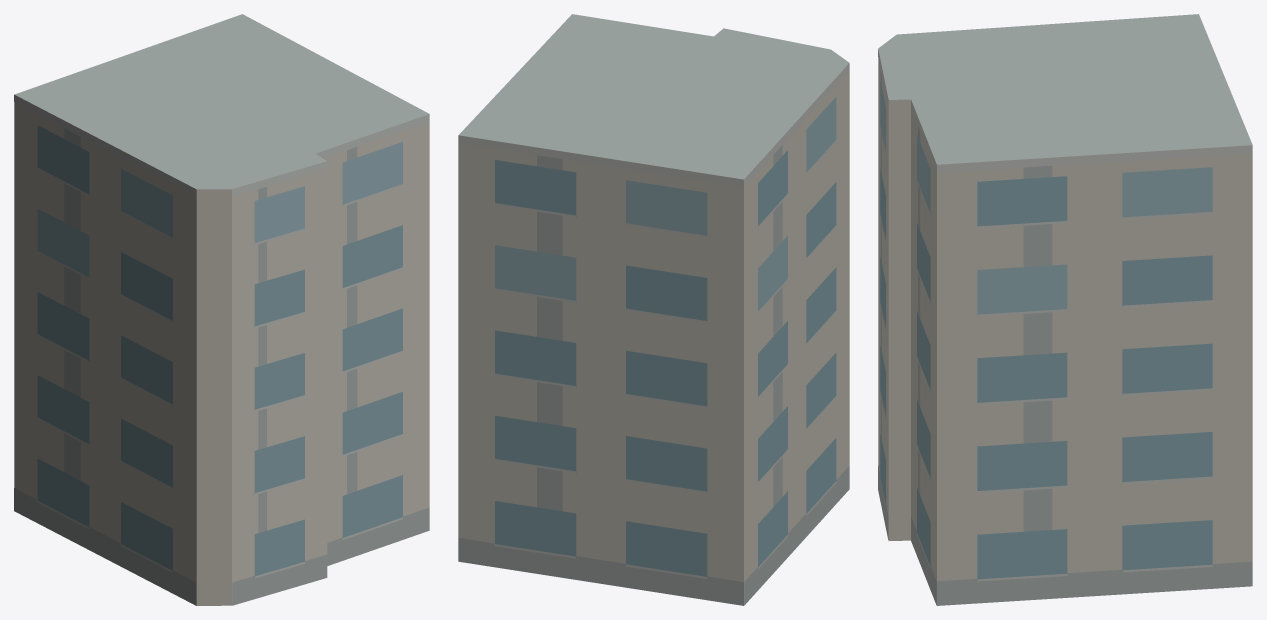
Rendered from survey-upis-32641598.glb.
3 renders of one model, left to right at view 1: azimuth 30°, elevation 25°; view 2: azimuth 150°, elevation 25°; view 3: azimuth 270°, elevation 25°, orthographic. The views are drawn at different scales.
Visible parts, largest first — view 1: survey-upis-32641598.tmp; view 2: survey-upis-32641598.tmp; view 3: survey-upis-32641598.tmp.
Part boxes in pixels (<box>): survey-upis-32641598.tmp: <box>14,14,429,605</box>; survey-upis-32641598.tmp: <box>458,14,849,605</box>; survey-upis-32641598.tmp: <box>878,14,1252,605</box>.
Size of the model in its own units: 9.76 by 13.3 by 10.25.
